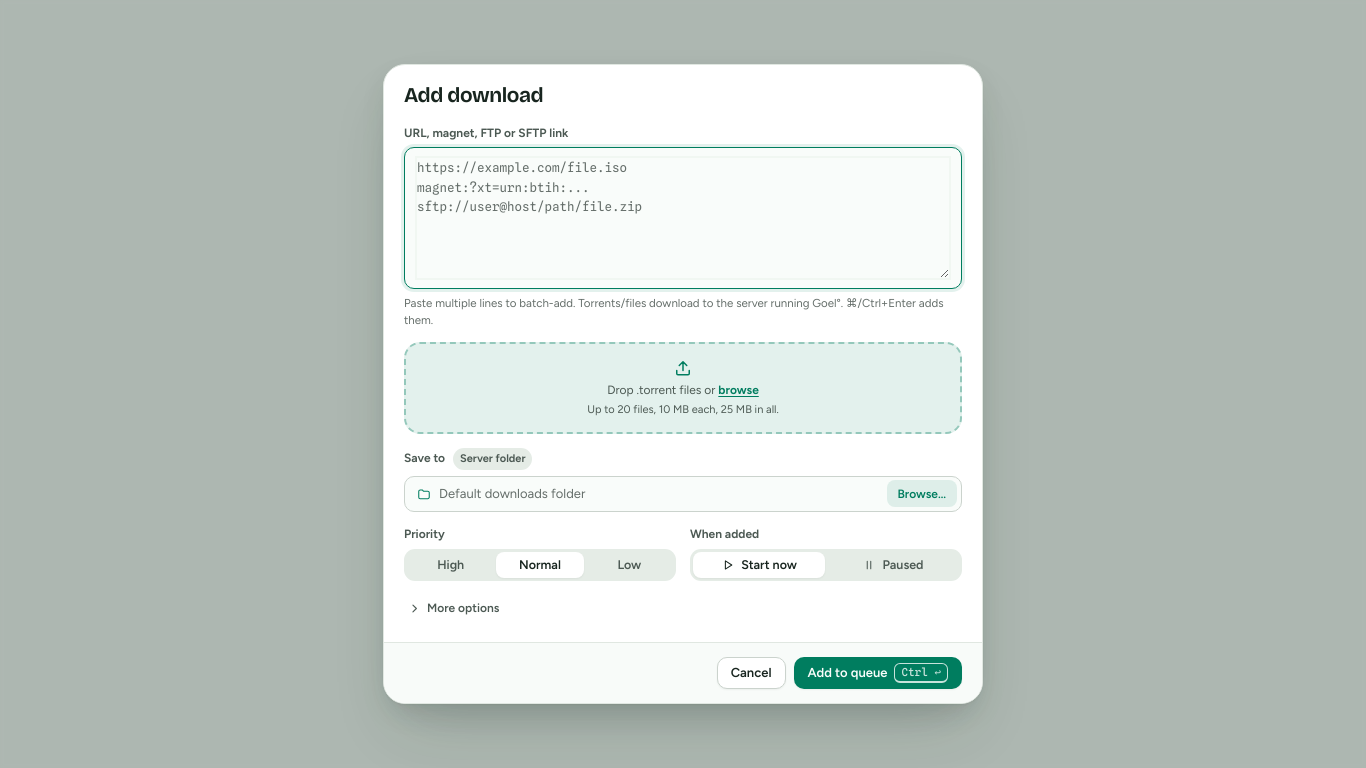
Test: AddDialog › shows an empty URL as an inline error, not a toast
This screenshot has width=1366, height=768.
Click the button "Add to queue Ctrl ↩": coordinates (878, 673) [794,657,962,689]
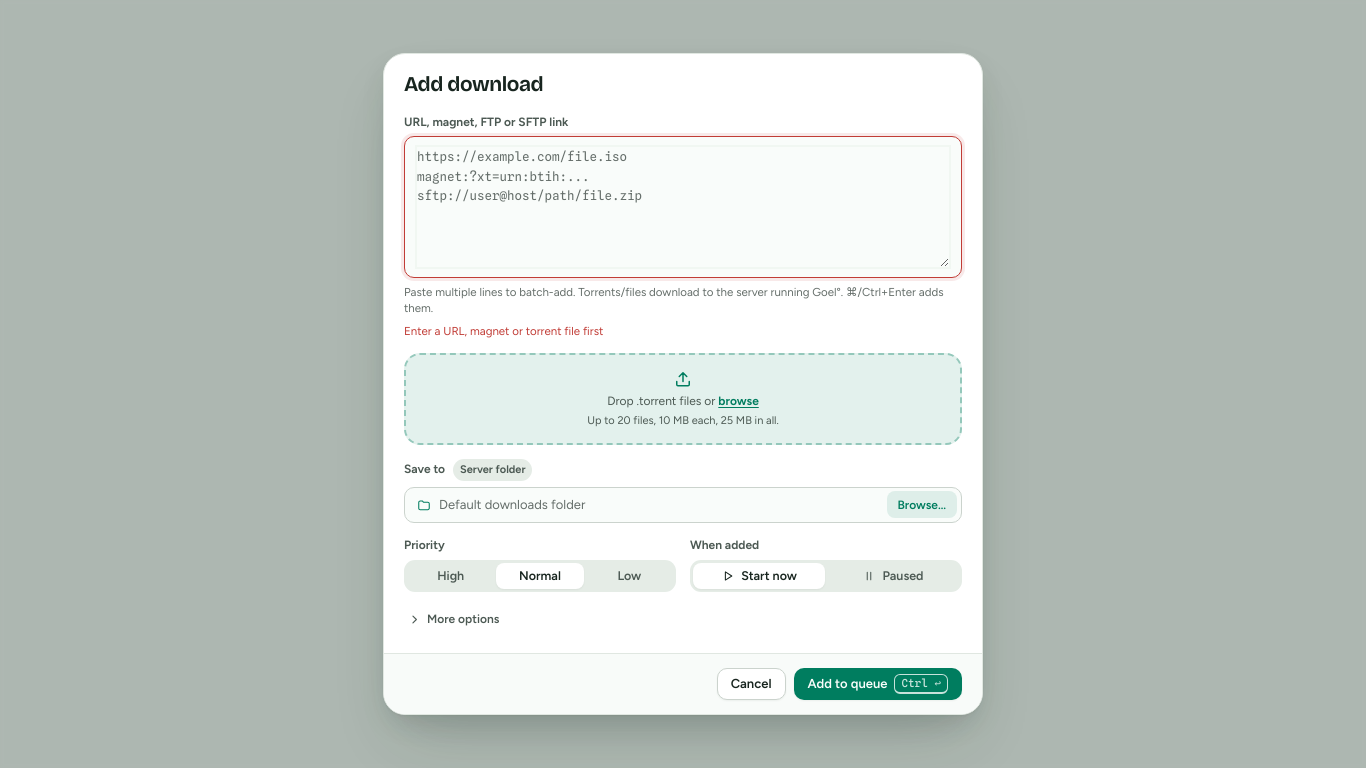
Result: the message reads "Enter a URL, magnet or torrent file first" at [404,324,603,338]
In the text box labelled "URL, magnet, FTP or SFTP link": coordinates (683, 207) [417,147,949,267], type "x"
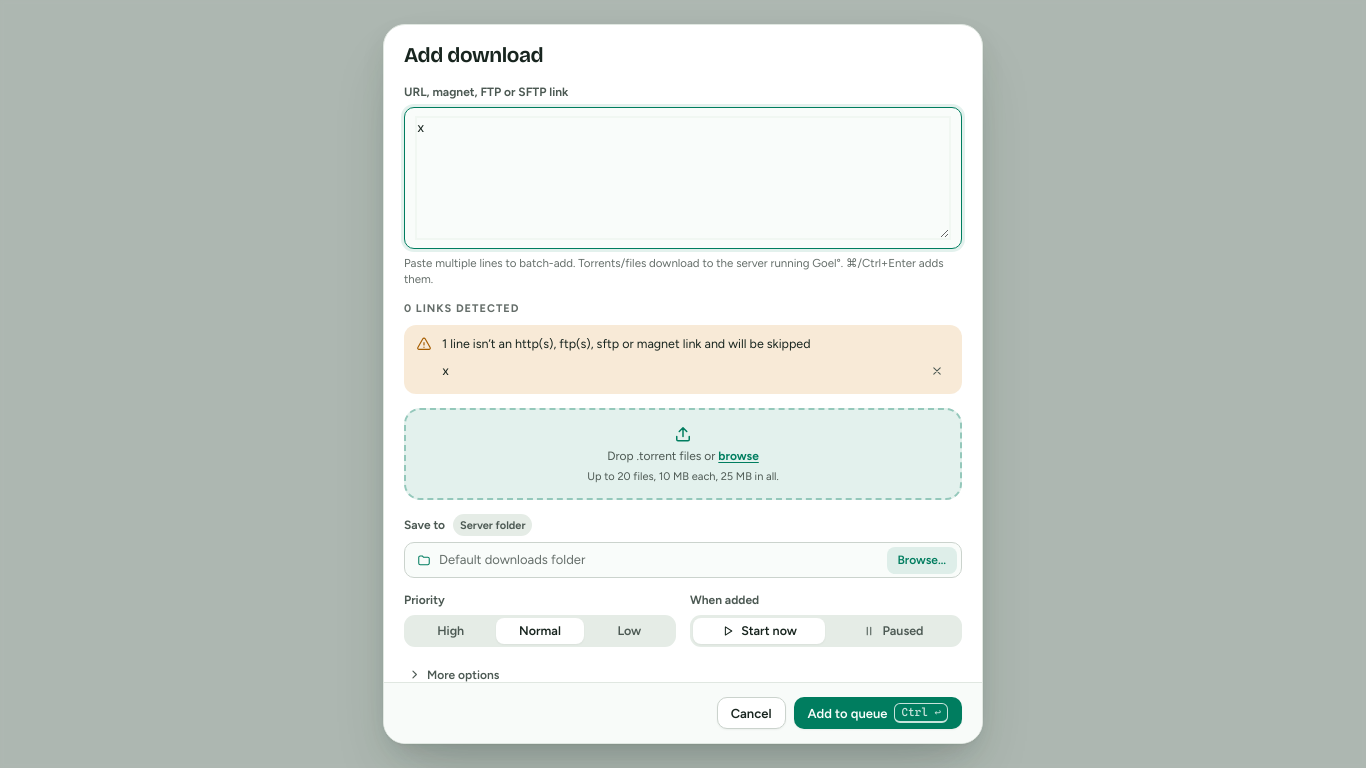
Result: the message "Enter a URL, magnet or torrent file first" is gone
